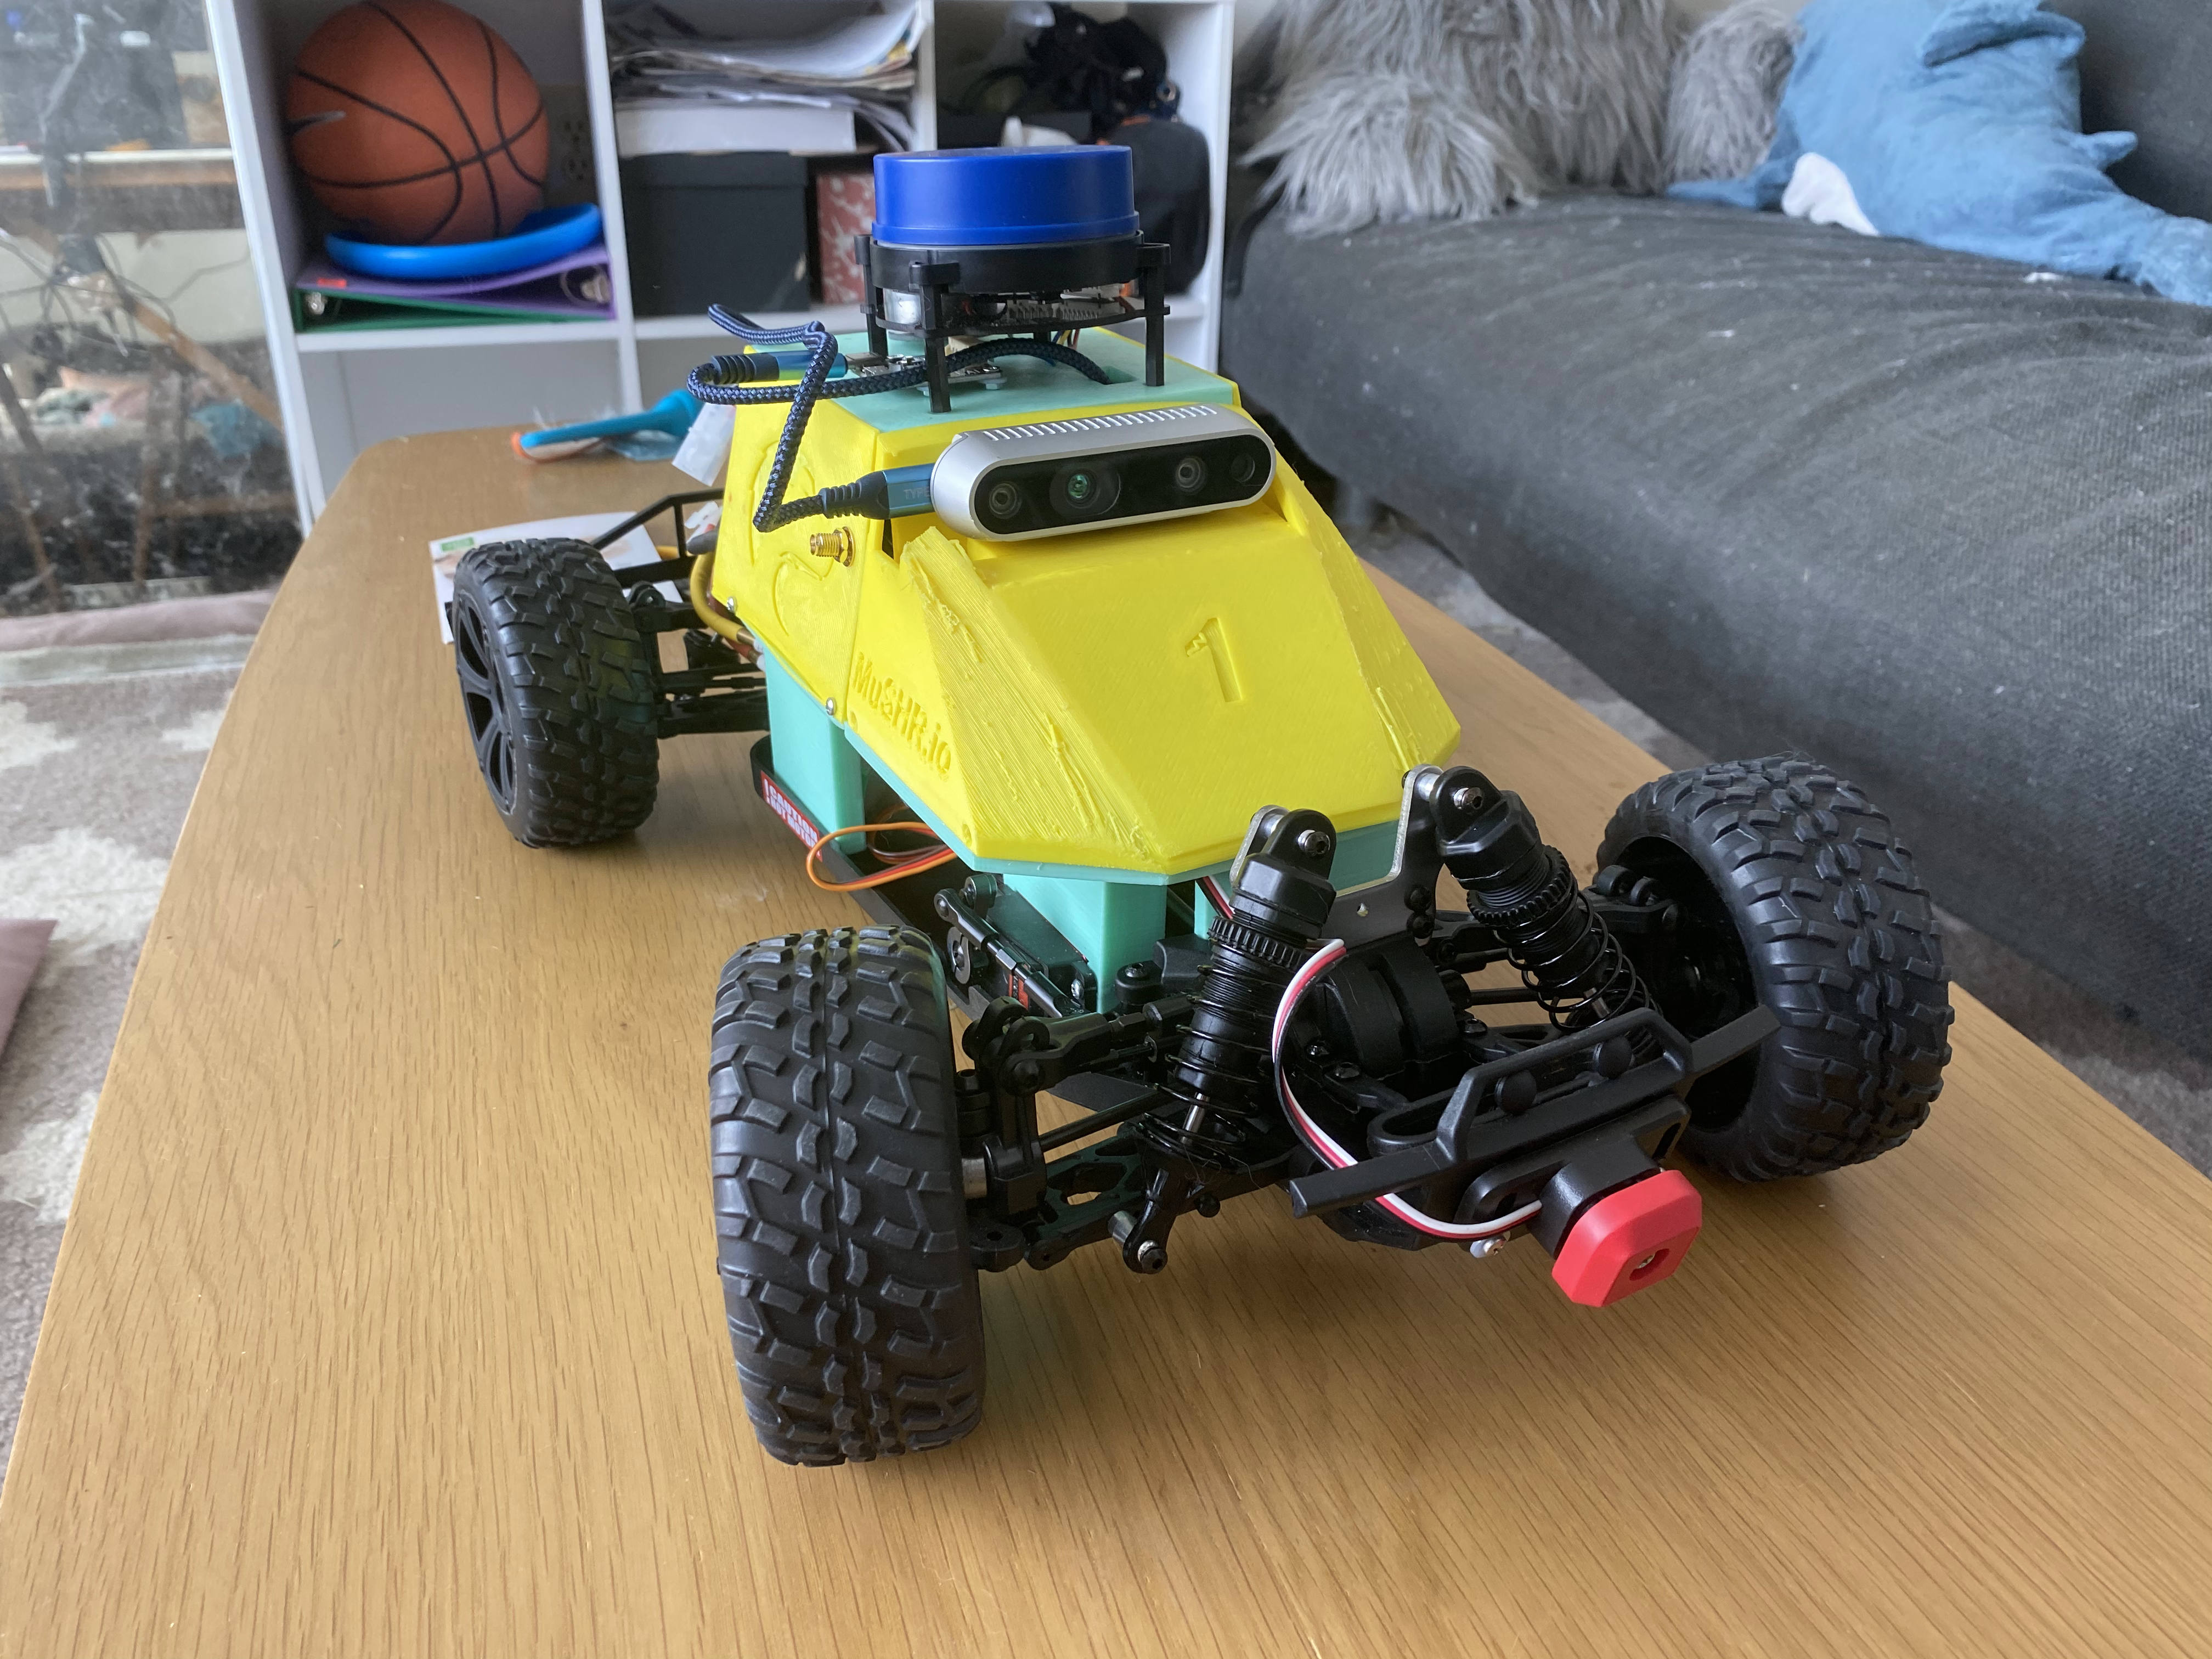mushr_car: (427, 141, 1959, 1488)
